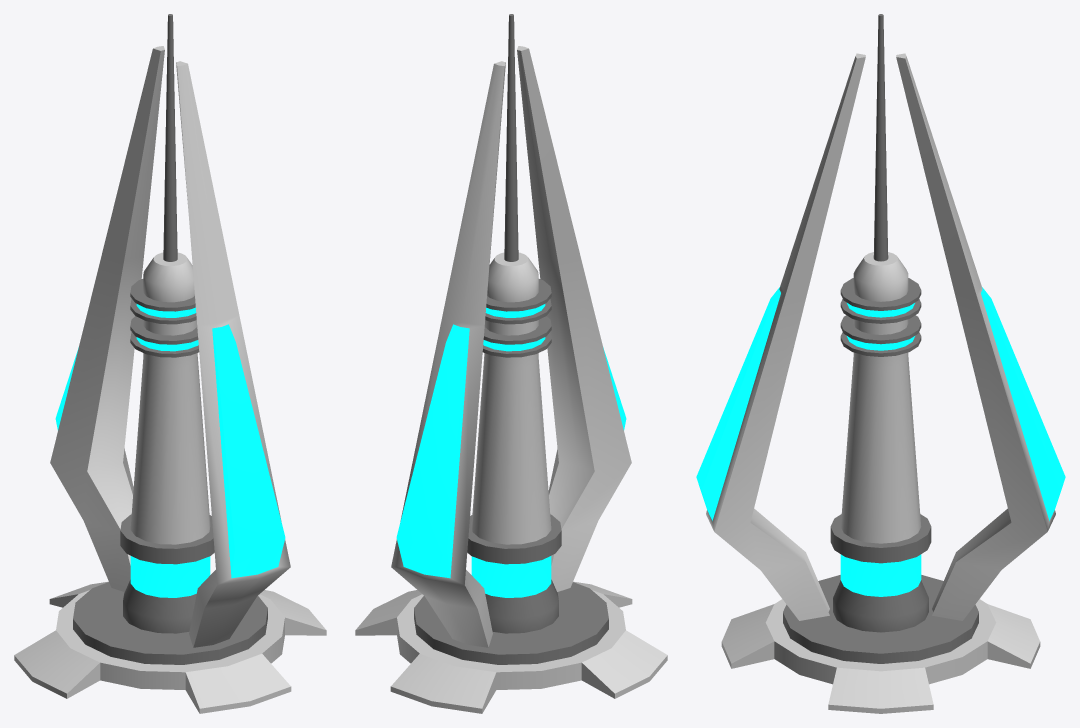
File: Lightning Tower.fbx
The picture shows the model from 3 angles, left to right: view 1: azimuth 30°, elevation 25°; view 2: azimuth 150°, elevation 25°; view 3: azimuth 270°, elevation 25°; orthographic projection.
Visible parts, largest first — view 1: Cylinder.007; view 2: Cylinder.007; view 3: Cylinder.007.
Boxes of the visible parts, box(x1,y1,x2,y2) form: Cylinder.007: box(14, 14, 326, 713); Cylinder.007: box(355, 14, 667, 713); Cylinder.007: box(696, 14, 1065, 713).
Size of the model in its own units: 580 by 1269 by 673.
